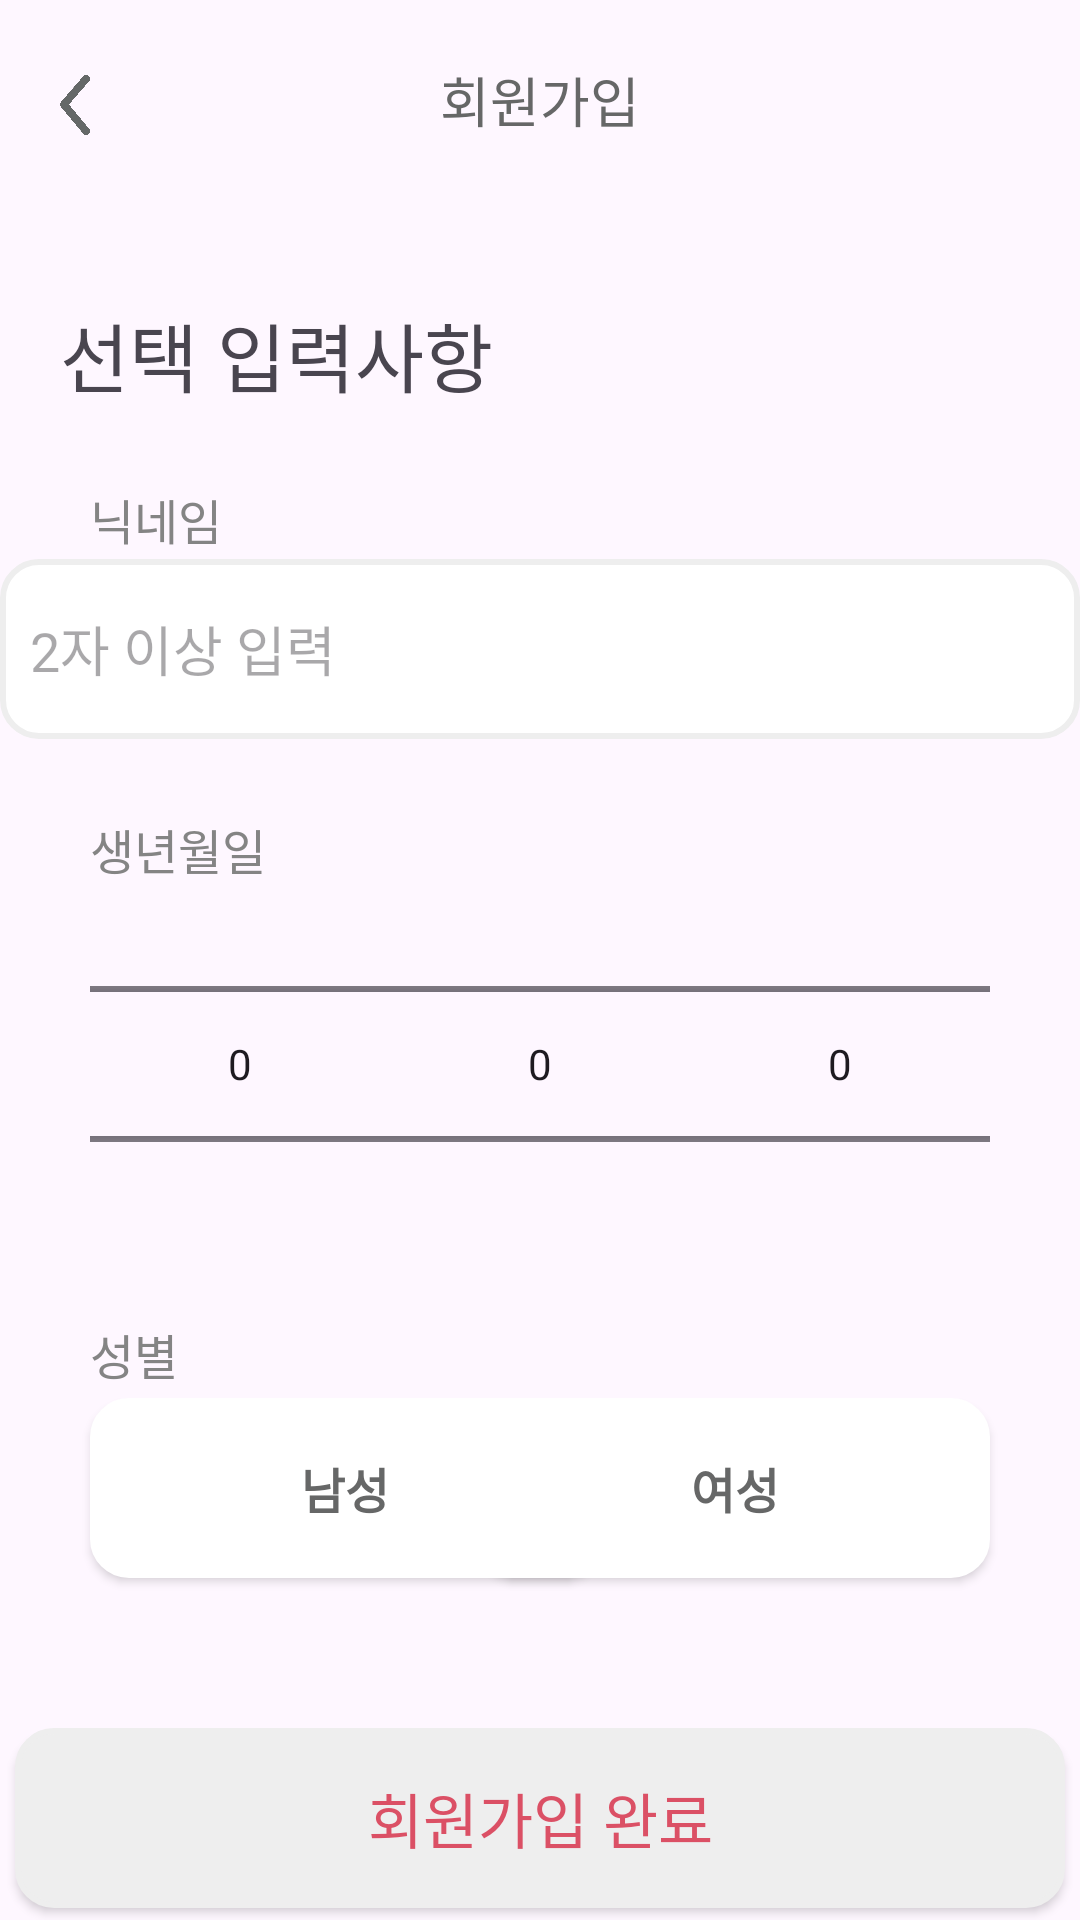

Icons on this 1080px×1920px Android screen, each with the point to tap as [x,y]:
wlsback: [75,105]
